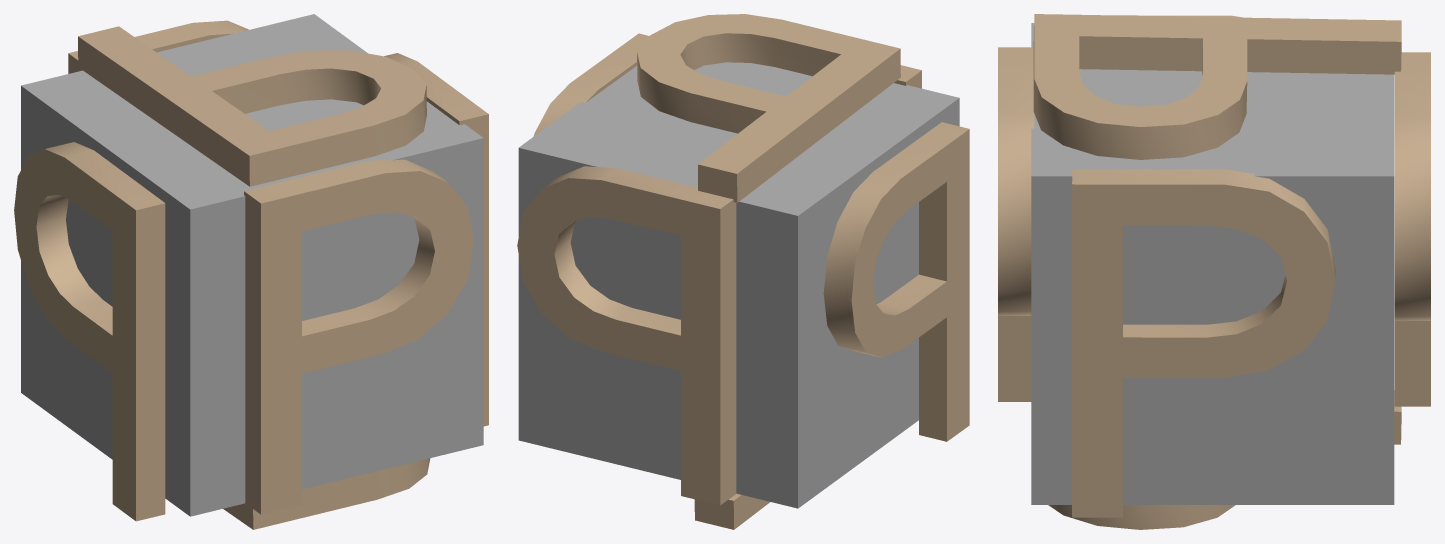
Rendered from LetterP.fbx.
3 views of the same model, side by side, from view 1: azimuth 30°, elevation 25°; view 2: azimuth 150°, elevation 25°; view 3: azimuth 270°, elevation 25° (orthographic). The views are drawn at different scales.
Visible parts, largest first — view 1: Box, Text Front, Text Left, Text Top, Text Bottom, Text Right, Text Back; view 2: Box, Text Back, Text Left, Text Top, Text Right, Text Bottom; view 3: Box, Text Right, Text Top, Text Back, Text Front, Text Bottom.
Boxes of the visible parts, x1=… form: Box: x1=21, y1=14, x2=483, y2=516; Text Front: x1=244, y1=159, x2=473, y2=514; Text Left: x1=14, y1=142, x2=165, y2=521; Text Top: x1=78, y1=26, x2=426, y2=186; Text Bottom: x1=223, y1=458, x2=430, y2=529; Text Right: x1=384, y1=53, x2=488, y2=426; Text Back: x1=68, y1=20, x2=248, y2=73; Box: x1=518, y1=62, x2=959, y2=508; Text Back: x1=517, y1=166, x2=736, y2=505; Text Left: x1=823, y1=122, x2=969, y2=441; Text Top: x1=637, y1=14, x2=900, y2=202; Text Right: x1=533, y1=33, x2=649, y2=136; Text Bottom: x1=694, y1=493, x2=769, y2=529; Box: x1=1031, y1=23, x2=1394, y2=504; Text Right: x1=1072, y1=169, x2=1335, y2=517; Text Top: x1=1033, y1=14, x2=1401, y2=159; Text Back: x1=1394, y1=52, x2=1430, y2=406; Text Front: x1=998, y1=47, x2=1034, y2=401; Text Bottom: x1=1048, y1=390, x2=1401, y2=529.
Size of the model in its own units: 1.2 by 1.24 by 1.19.
